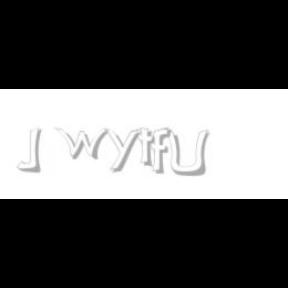J: (16, 128, 42, 172)
U: (164, 128, 208, 178)
f: (151, 128, 175, 174)
t: (137, 128, 159, 168)
w: (55, 128, 114, 160)
y: (104, 128, 144, 172)
